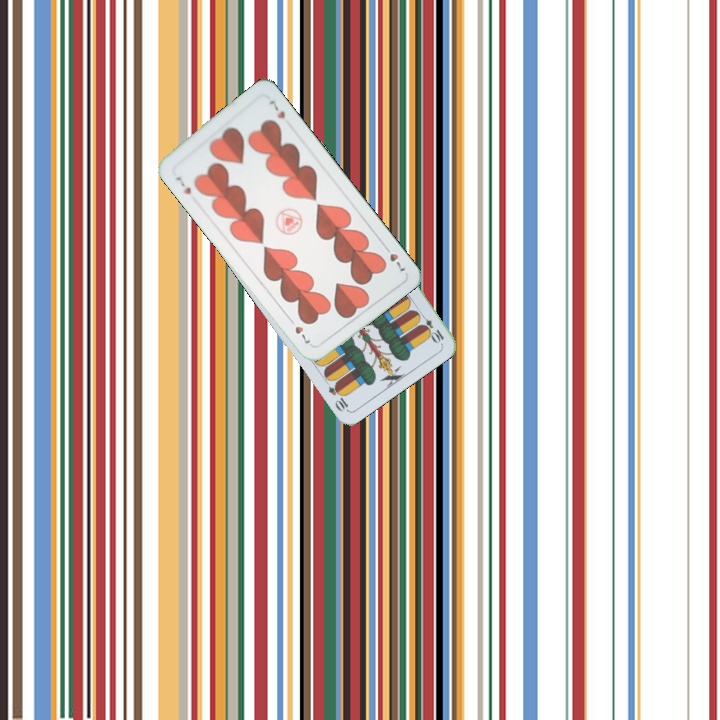E10: (415, 309, 447, 345)
H7: (379, 240, 408, 276), (171, 172, 194, 197)
